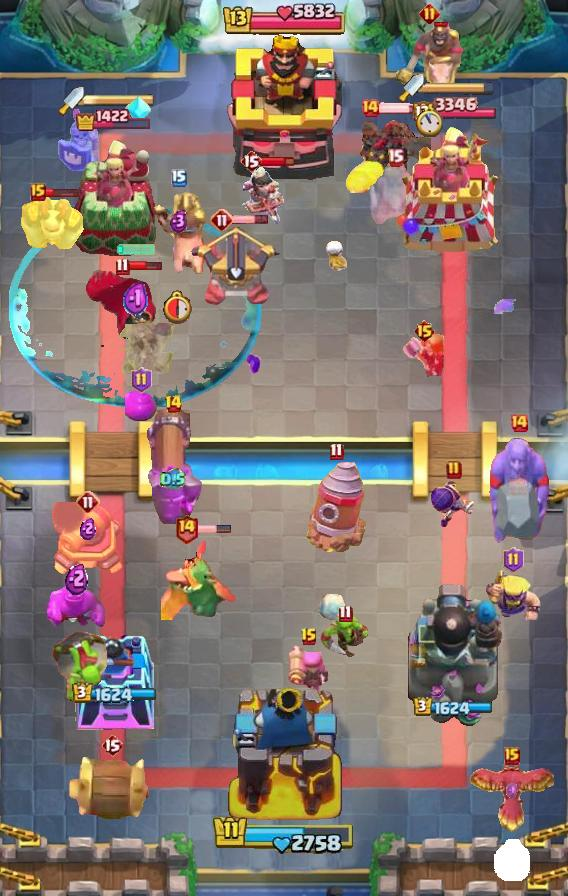archer-evolution: (339, 113, 431, 193)
archer-queen: (486, 438, 552, 550)
arrows: (482, 565, 544, 621)
bar: (394, 126, 512, 256), (70, 138, 158, 256)
bar-level: (50, 626, 110, 702)
bat: (309, 594, 353, 628)
clock: (212, 814, 356, 856), (221, 0, 347, 40)
electro-spirit: (123, 280, 149, 319), (65, 561, 88, 594), (160, 468, 186, 491), (170, 209, 188, 233), (80, 516, 96, 540), (505, 781, 518, 798)
electro-wizard: (161, 534, 245, 620)
elixir: (494, 839, 530, 881), (163, 289, 195, 323), (416, 107, 443, 137)
elixir-golem-small: (21, 191, 85, 249)
emote: (378, 102, 416, 114), (261, 156, 296, 169), (44, 186, 80, 198), (128, 260, 163, 272), (232, 215, 269, 226), (196, 524, 232, 534)
fisherman: (118, 322, 177, 374)
freeze: (148, 192, 210, 274), (393, 22, 465, 90)
furnace: (142, 410, 204, 524)
goblin-ball: (430, 476, 478, 530)
golden-knight: (466, 759, 558, 833)
heal-spirit: (322, 240, 350, 274)
hog-rider: (401, 333, 447, 379)
ice-spirit: (116, 243, 156, 255)
inferno-tower: (83, 265, 189, 353)
king-tower: (223, 680, 345, 826), (226, 33, 342, 181)
king-tower-bar: (424, 81, 496, 95), (84, 93, 156, 107)
lava-pup: (191, 225, 283, 307)
magic-archer: (306, 459, 366, 553)
miner: (125, 391, 157, 421)
mortar-evolution: (366, 161, 424, 229)
pad_0: (9, 206, 263, 412)
pad_2: (124, 94, 152, 126)
princess: (57, 109, 101, 177)
queen-tower: (73, 623, 155, 731)
royal-recruit: (49, 502, 127, 578)
selected: (410, 97, 496, 124), (75, 108, 153, 132), (71, 682, 156, 704), (413, 695, 493, 716)
skeleton-dragon: (239, 166, 287, 228)
text: (174, 513, 199, 544), (210, 208, 234, 232), (76, 490, 100, 514), (131, 367, 153, 393), (413, 319, 436, 343), (504, 547, 525, 573), (240, 149, 262, 173), (101, 733, 123, 757), (419, 3, 440, 25), (360, 98, 380, 118), (164, 394, 184, 414), (509, 413, 529, 433), (300, 627, 318, 647), (387, 148, 405, 167), (446, 460, 462, 480), (171, 169, 187, 187), (30, 183, 46, 201), (504, 747, 520, 765), (328, 442, 343, 461), (115, 257, 130, 275), (339, 605, 353, 623)
the-log: (67, 755, 157, 823)
tombstone: (287, 643, 331, 703)
tornado: (47, 582, 105, 628)
tower-bar: (402, 579, 504, 731)
zap: (320, 614, 370, 658)
